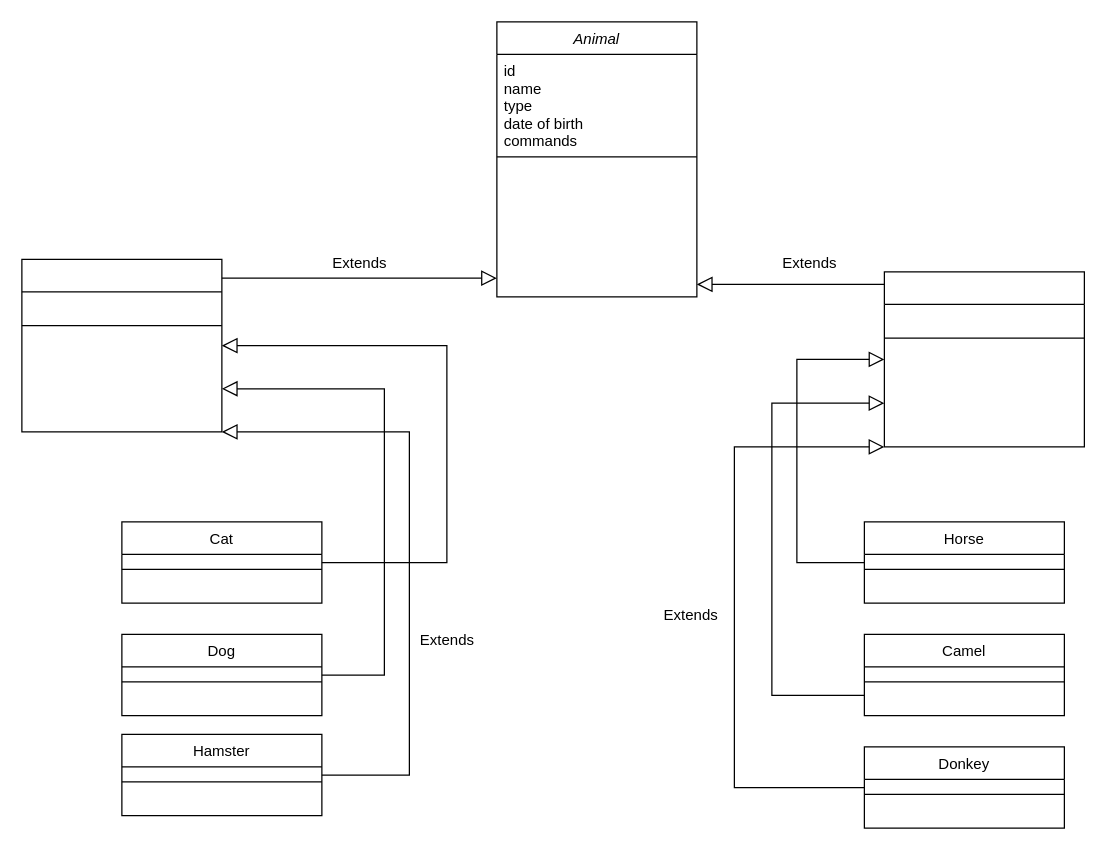
Some shapes in this 1106 by 850 pixel diagram are drawn without their labels. The centre of each missing label's shape, as x and y in pixels:
"PackAnimal" goes at (x=983, y=359).
"Pet" goes at (x=121, y=345).
